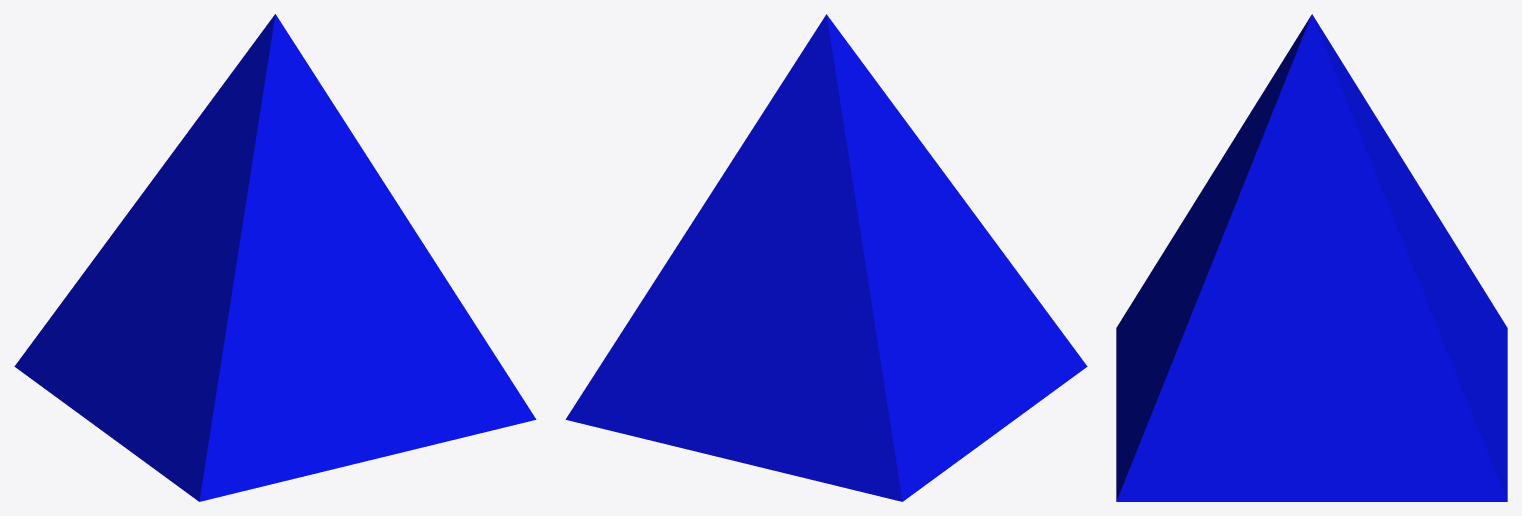
Rendered from 7. Limas segiempat.fbx.
The picture shows the model from 3 angles, left to right: view 1: azimuth 30°, elevation 25°; view 2: azimuth 150°, elevation 25°; view 3: azimuth 270°, elevation 25°; orthographic projection. The views are drawn at different scales.
Parts seen in each view (by area): view 1: Cube.003; view 2: Cube.003; view 3: Cube.003.
Boxes of the visible parts, bbox=[...] form: Cube.003: bbox=[14, 14, 536, 501]; Cube.003: bbox=[565, 14, 1087, 501]; Cube.003: bbox=[1116, 14, 1507, 501].
Size of the model in its own units: 712 by 764 by 676.
